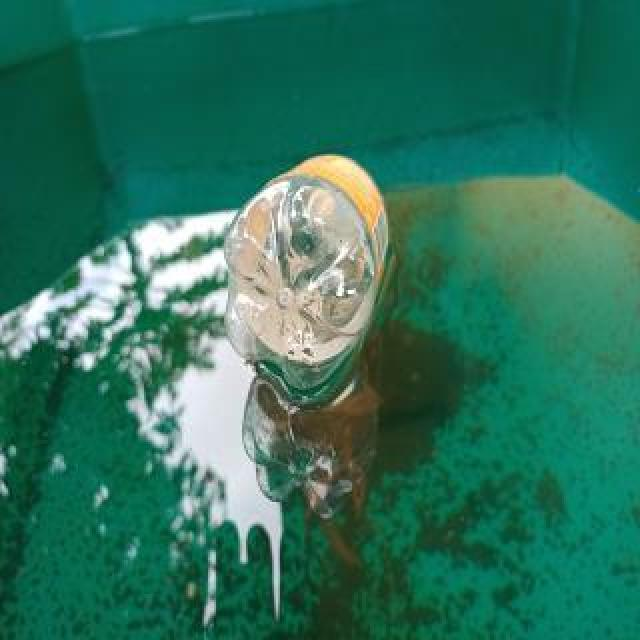Bottle: (215, 145, 403, 384)
